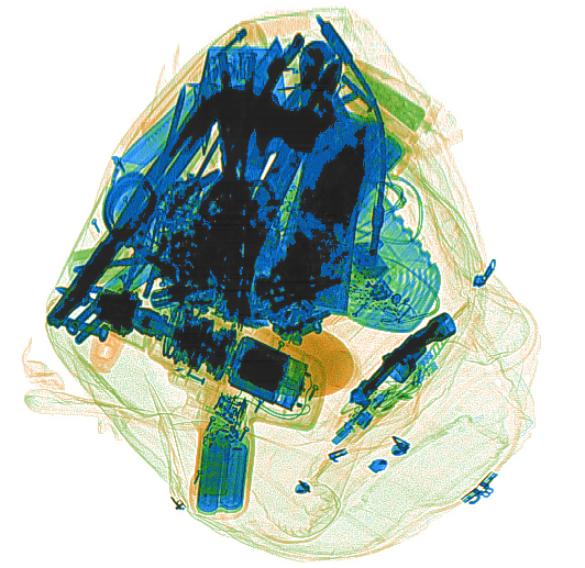battery: (195, 427, 249, 517)
knife: (118, 20, 270, 175)
